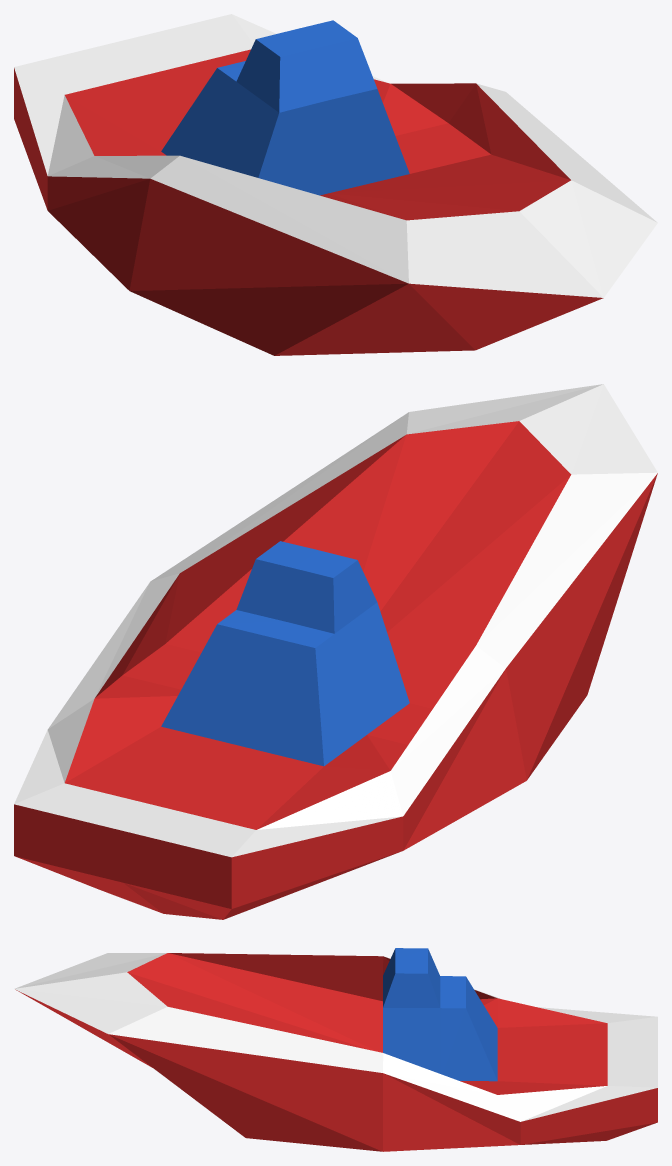
Rendered from speedboat.obj.
The picture shows the model from 3 angles, top to bottom: view 1: azimuth 30°, elevation 25°; view 2: azimuth 150°, elevation 25°; view 3: azimuth 270°, elevation 25°; orthographic projection. The views are drawn at different scales.
Size of the model in its own units: 11.17 by 7.37 by 23.43.
1 material, 1 textured.
